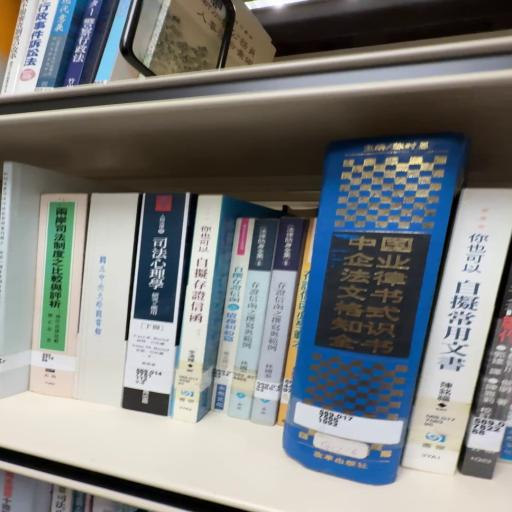backward: (77, 192, 142, 408)
book: (121, 197, 192, 424), (29, 195, 86, 351)
